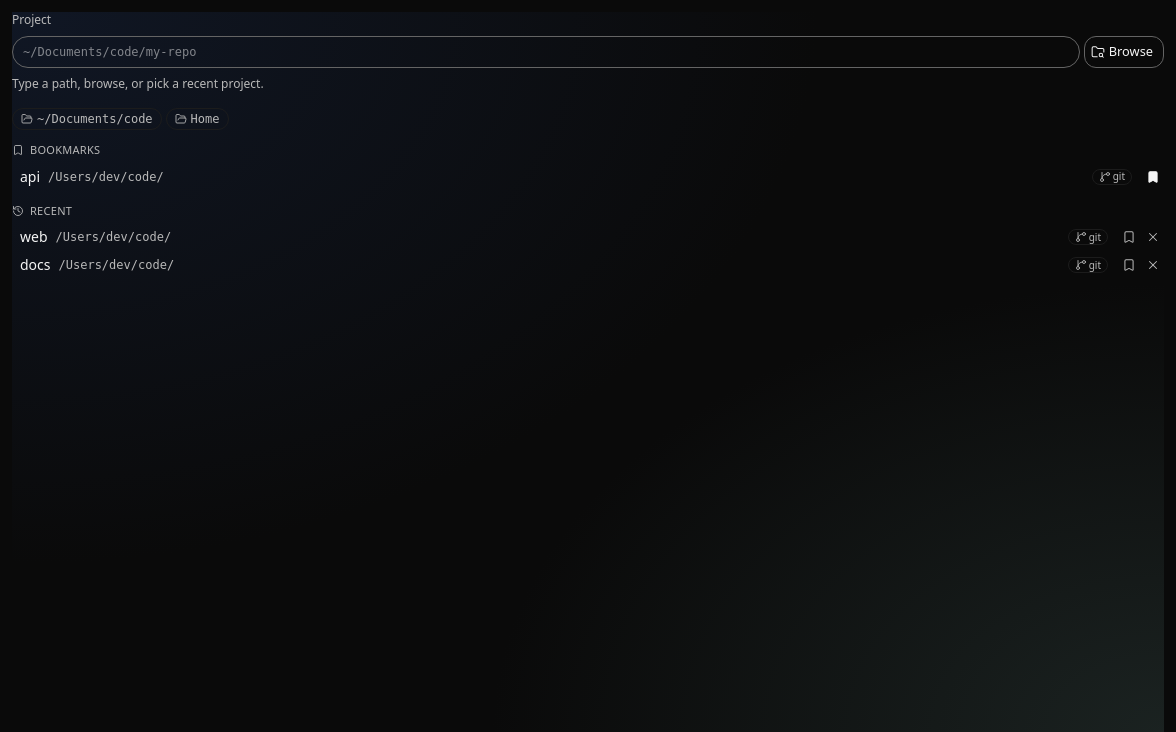
Test: validation › explains why ~/Documents/code/README.md can't be used
The width and height of the screenshot is (1176, 732).
Type "~/Documents/code/README.md" into the dropdown named "Project path" at (546, 52), box left=12, top=36, right=1080, bottom=68
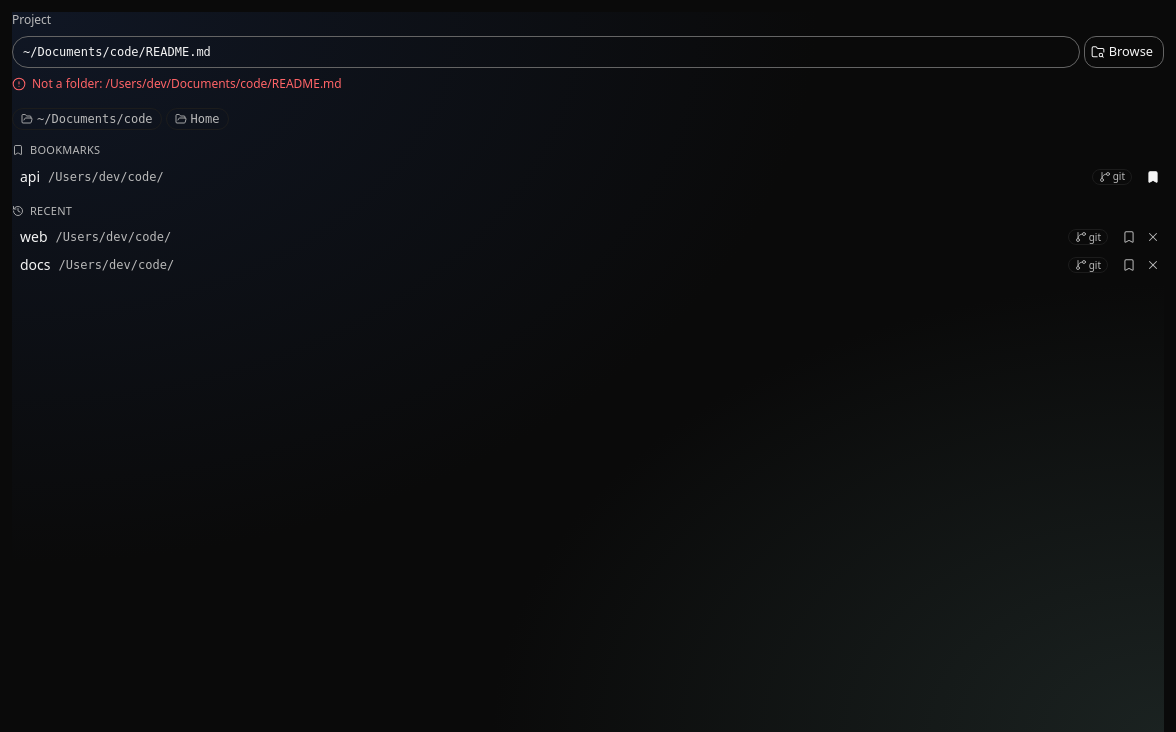
Expected: the message with test id "folder-problem" reads "Not a folder: /Users/dev/Documents/code/README.md", left=32, top=75, right=342, bottom=92
